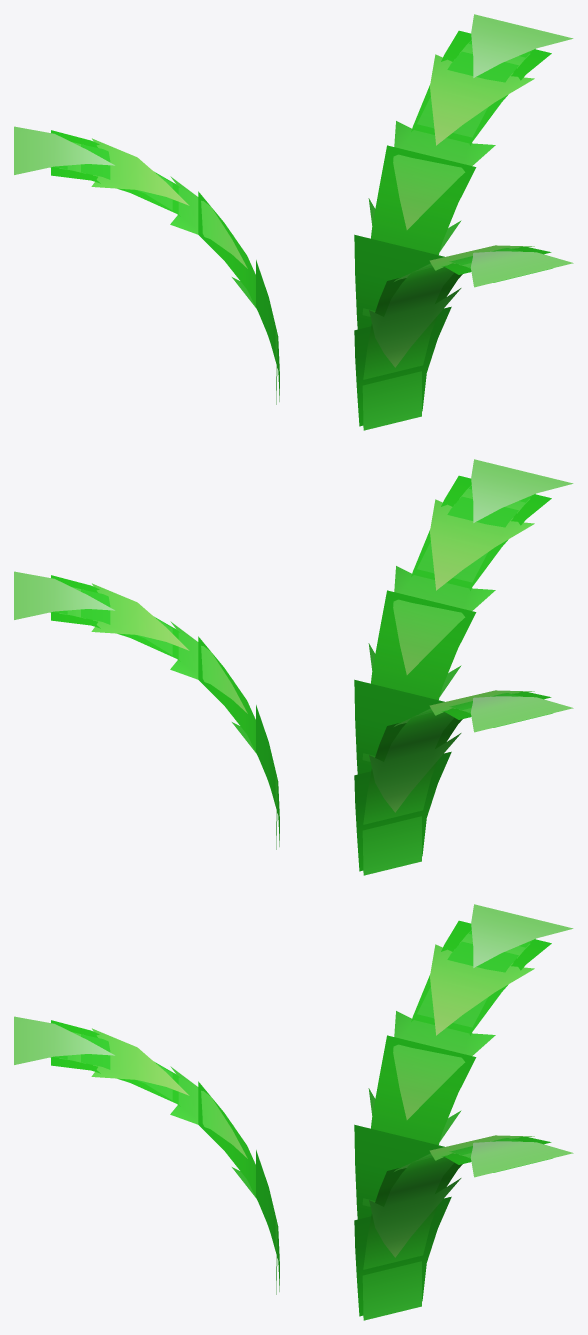
The model's file is arrowAnimation04.fbx.
3 views of the same model, one above another, from view 1: azimuth 30°, elevation 25°; view 2: azimuth 150°, elevation 25°; view 3: azimuth 270°, elevation 25° (orthographic).
Parts seen in each view (by area): view 1: frame5, frame3, frame1, frame4, frame2, frame6; view 2: frame5, frame3, frame1, frame4, frame2, frame6; view 3: frame5, frame3, frame1, frame4, frame2, frame6.
Part boxes in pixels (bbox=[...]): frame5: bbox=[198, 145, 476, 430]; frame3: bbox=[54, 40, 549, 282]; frame1: bbox=[14, 14, 573, 287]; frame4: bbox=[51, 30, 551, 367]; frame2: bbox=[50, 40, 552, 282]; frame6: bbox=[256, 234, 451, 426]; frame5: bbox=[198, 590, 476, 875]; frame3: bbox=[54, 485, 549, 727]; frame1: bbox=[14, 459, 573, 732]; frame4: bbox=[51, 475, 551, 812]; frame2: bbox=[50, 485, 552, 727]; frame6: bbox=[256, 679, 451, 871]; frame5: bbox=[198, 1035, 476, 1320]; frame3: bbox=[54, 930, 549, 1172]; frame1: bbox=[14, 904, 573, 1177]; frame4: bbox=[51, 920, 551, 1257]; frame2: bbox=[50, 930, 552, 1172]; frame6: bbox=[256, 1124, 451, 1316].
Bounding box in the file's own units: 0.0241 × 0.0101 × 0.0209.
